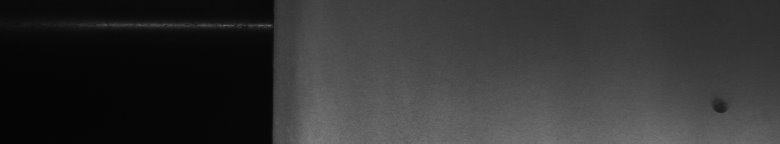fi: (708, 93, 732, 120)
